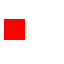square: (4, 19, 24, 39)
